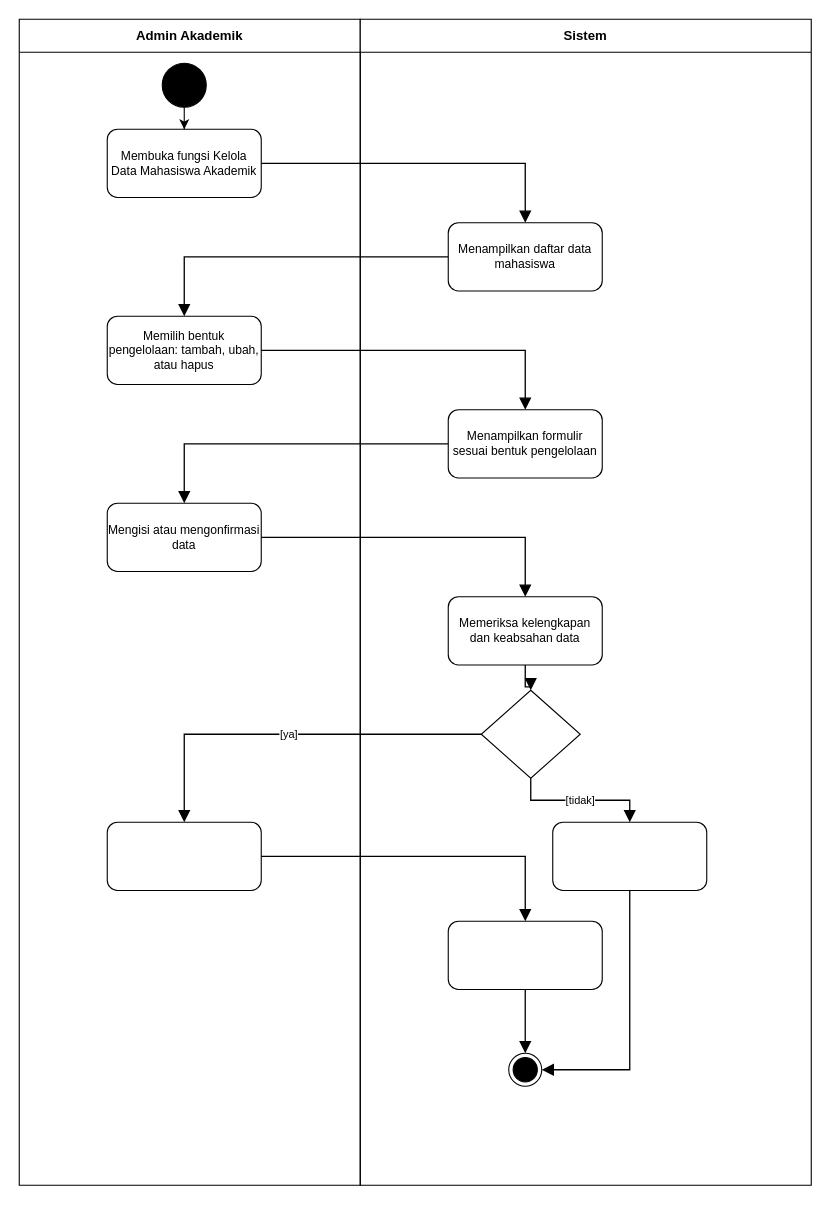
This 831x1205 diagram has some shape labels left out. The shapes that lost their labels are listed below. From the top down, each one's centre as x and y in pixels, then its label:
[530,733]: Data lengkap dan sah?
[183,855]: Menyimpan perubahan
[629,855]: Menolak penyimpanan dan menampilkan pesan kesalahan data
[524,954]: Menyimpan perubahan dan menampilkan konfirmasi
